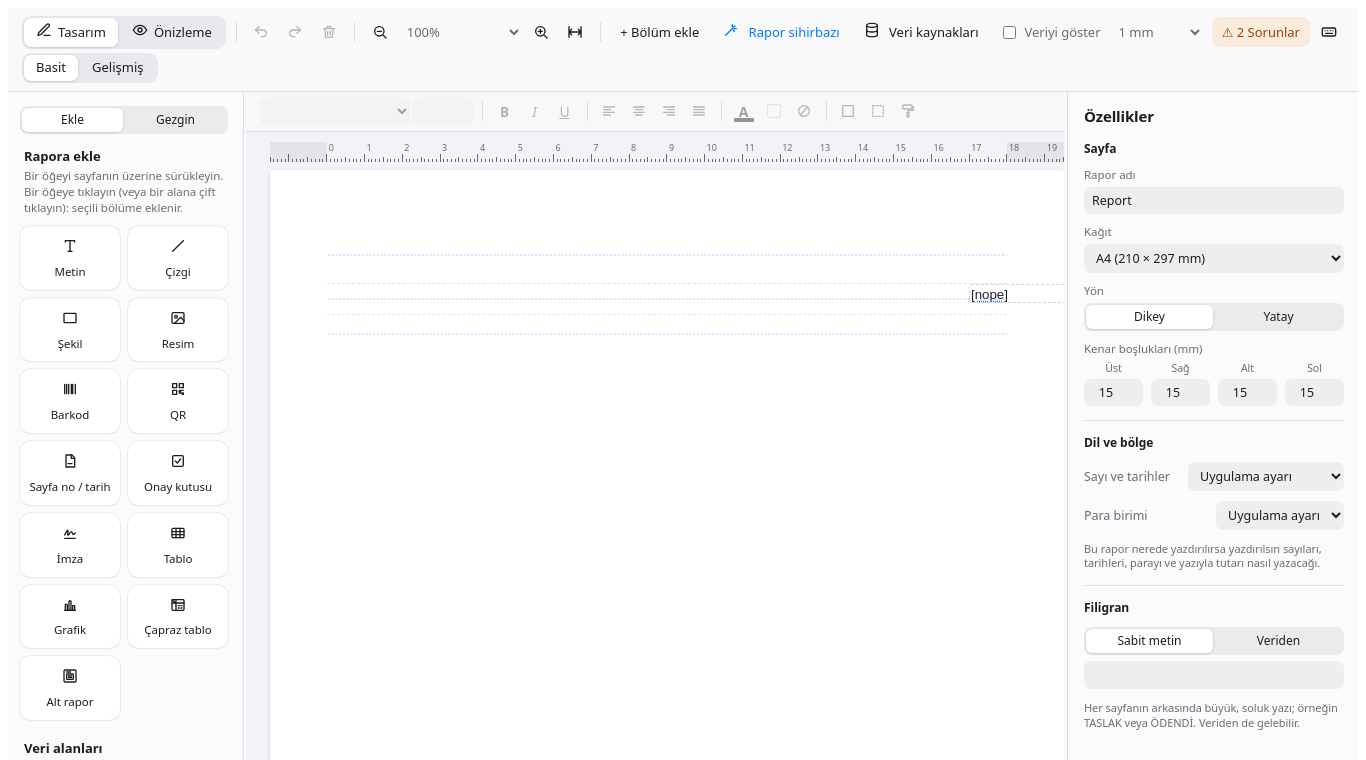
Scenario: WeReportDesignerComponent › lists design problems and moves an item back onto the paper
Click the button with class "wd__issues" at (1261, 32), box [1212,18,1310,48]
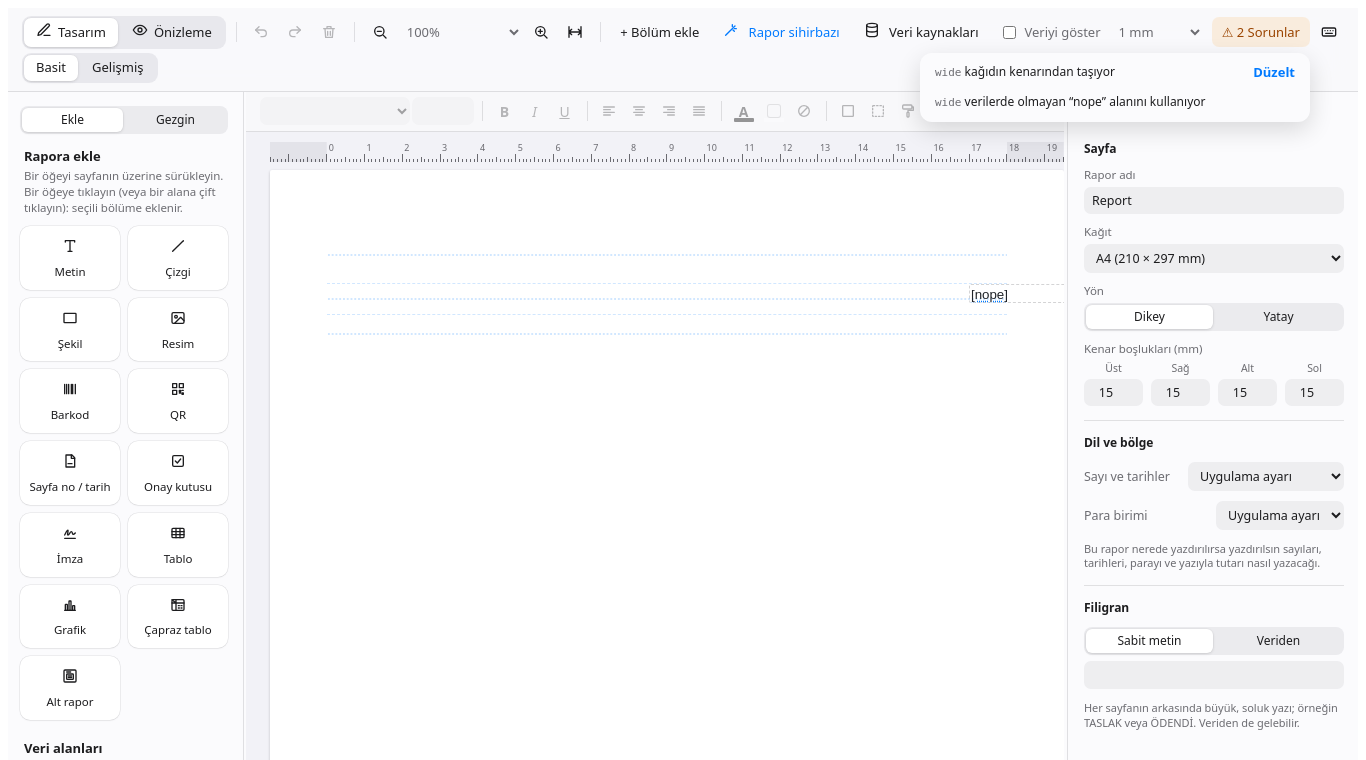
Result: the list with class "wd__problems" shows "kağıdın kenarından taşıyor" at [925,58,1237,87]
